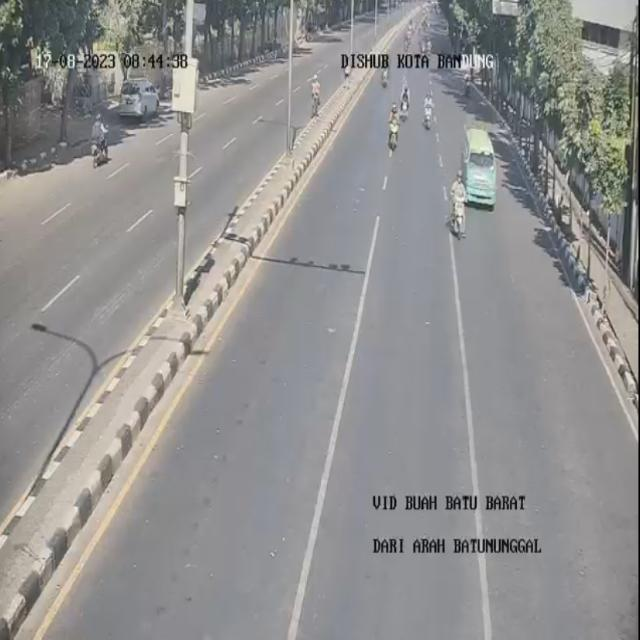cars: (462, 127, 497, 208)
motorcycle: (451, 169, 467, 238), (388, 102, 400, 156), (423, 89, 435, 129), (401, 74, 411, 121), (380, 54, 391, 87)
